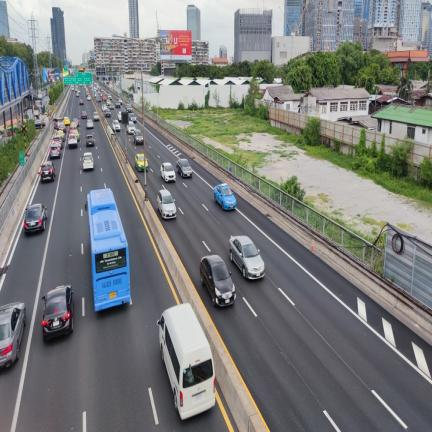bus: (86, 188, 130, 311)
car: (200, 255, 235, 305), (0, 303, 26, 368), (42, 286, 73, 340), (228, 236, 264, 278), (24, 203, 47, 233), (157, 189, 176, 218), (39, 161, 55, 181), (177, 158, 192, 176), (161, 163, 175, 181), (83, 152, 93, 170), (50, 143, 60, 158), (133, 129, 143, 143), (68, 133, 77, 148), (70, 128, 80, 141), (52, 136, 62, 149), (55, 130, 65, 141), (86, 134, 94, 146), (54, 118, 62, 130), (112, 119, 120, 130), (127, 122, 135, 133), (35, 120, 45, 128), (58, 121, 65, 132), (70, 122, 78, 130), (130, 114, 137, 123), (87, 119, 93, 128), (93, 112, 99, 121), (126, 104, 132, 112), (81, 111, 87, 119), (73, 119, 79, 126), (105, 110, 111, 117), (117, 112, 121, 121), (102, 104, 107, 111), (115, 101, 120, 107), (108, 104, 114, 109), (117, 99, 122, 104), (98, 95, 101, 103), (108, 94, 112, 100), (80, 100, 84, 105), (76, 91, 79, 97), (87, 95, 90, 100), (71, 86, 74, 90)
taxi: (214, 184, 236, 209), (135, 154, 148, 170), (70, 126, 79, 141), (55, 130, 64, 141), (63, 116, 70, 125), (70, 121, 77, 128), (106, 99, 111, 106)
van: (157, 304, 215, 419), (53, 118, 63, 129)
